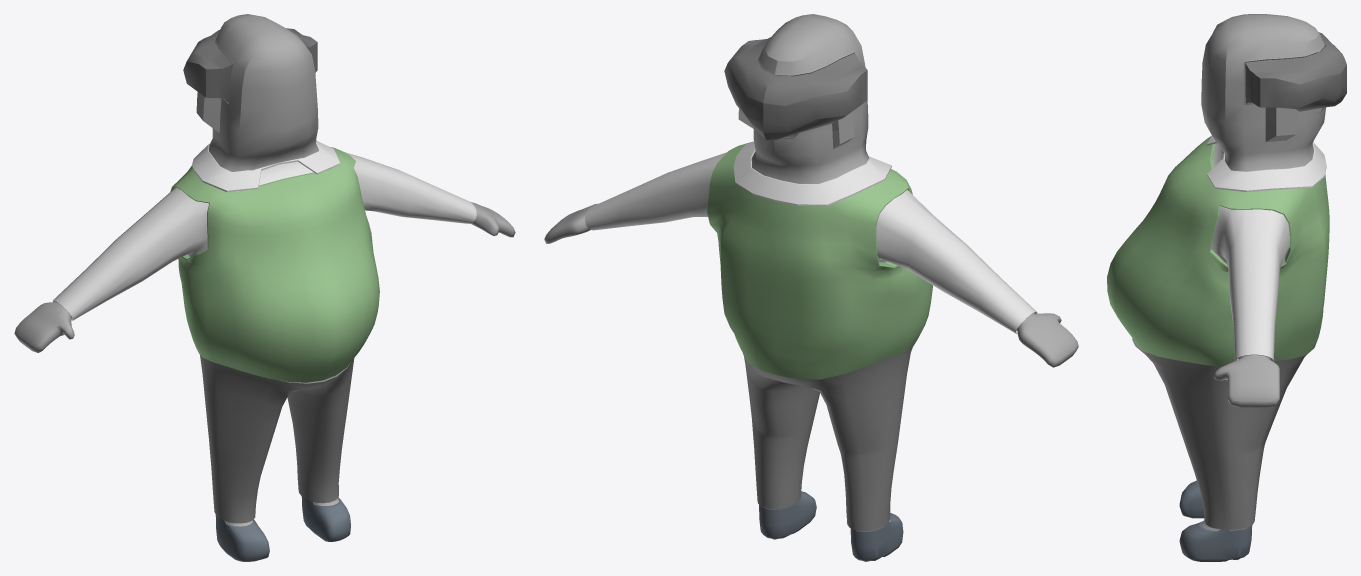
Rendered from Larry_V1.fbx.
The picture shows the model from 3 angles, left to right: view 1: azimuth 30°, elevation 25°; view 2: azimuth 150°, elevation 25°; view 3: azimuth 270°, elevation 25°; orthographic projection. The views are drawn at different scales.
Visible parts, largest first — view 1: polySurface4, pCube4, polySurface3, polySurface5, polySurface8, polySurface7; view 2: polySurface4, pCube4, polySurface3, polySurface5, polySurface7, polySurface8; view 3: polySurface4, pCube4, polySurface5, polySurface3, polySurface7, polySurface8.
Boxes of the visible parts, bbox=[...] form: polySurface4: bbox=[170, 147, 379, 382]; pCube4: bbox=[14, 14, 515, 526]; polySurface3: bbox=[52, 141, 476, 320]; polySurface5: bbox=[199, 354, 354, 523]; polySurface8: bbox=[215, 515, 269, 561]; polySurface7: bbox=[301, 496, 350, 541]; polySurface4: bbox=[707, 141, 932, 379]; pCube4: bbox=[544, 14, 1078, 531]; polySurface3: bbox=[585, 141, 1037, 333]; polySurface5: bbox=[743, 347, 912, 530]; polySurface7: bbox=[759, 491, 816, 539]; polySurface8: bbox=[850, 513, 903, 561]; polySurface4: bbox=[1107, 135, 1329, 366]; pCube4: bbox=[1201, 14, 1346, 531]; polySurface5: bbox=[1132, 338, 1305, 529]; polySurface3: bbox=[1207, 136, 1326, 361]; polySurface7: bbox=[1179, 520, 1252, 561]; polySurface8: bbox=[1179, 480, 1204, 518].
Bounding box in the file's own units: 7.15 × 7.08 × 2.99.
